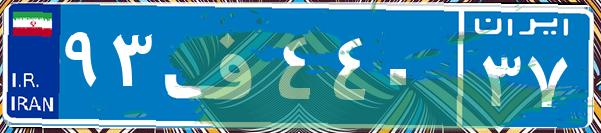0: (385, 28, 445, 110)
3: (475, 38, 525, 113), (110, 28, 158, 105)
4: (273, 28, 330, 110), (330, 28, 385, 110)
7: (525, 38, 570, 115)
9: (57, 26, 110, 107)
ف: (158, 15, 273, 115)
